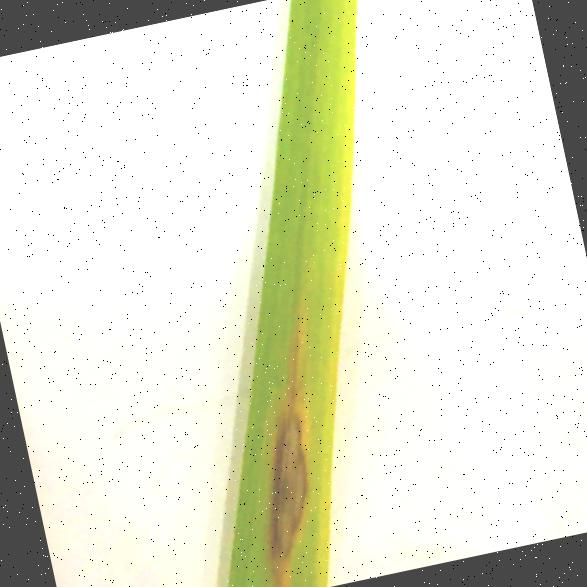Leaf_smut: (224, 364, 335, 587)
